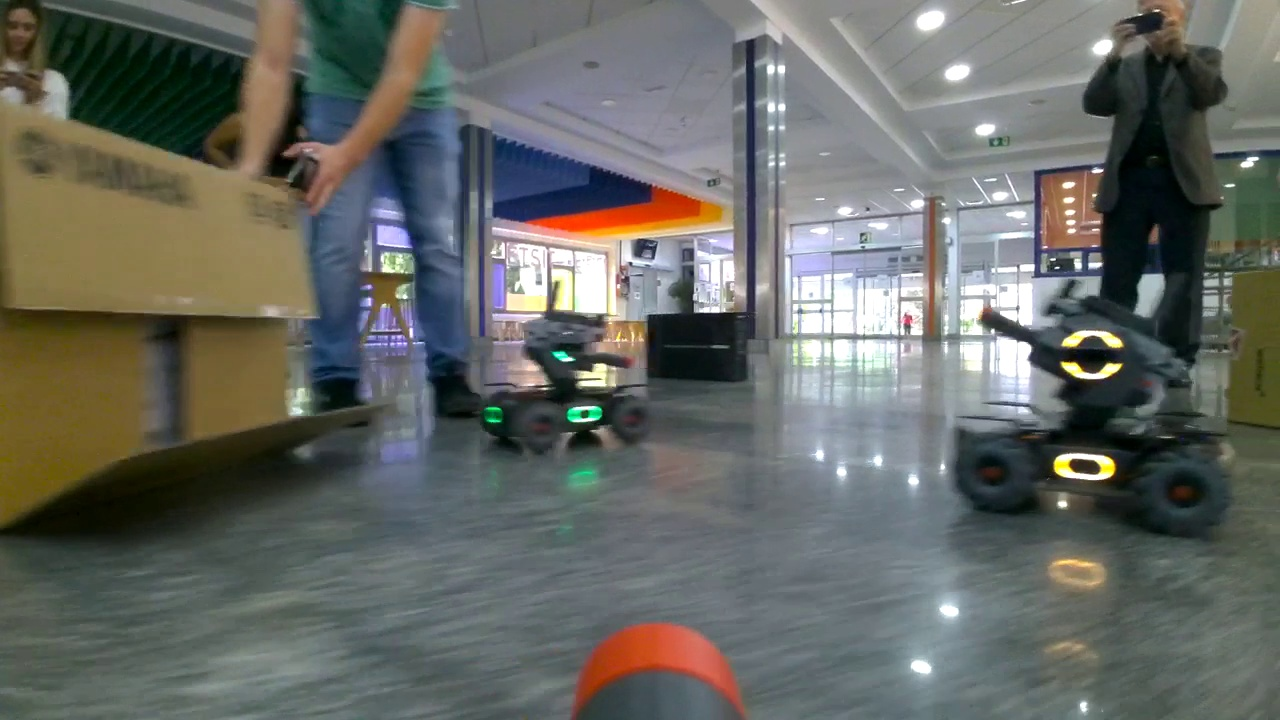robot: (952, 303, 1234, 538), (480, 305, 656, 454)
